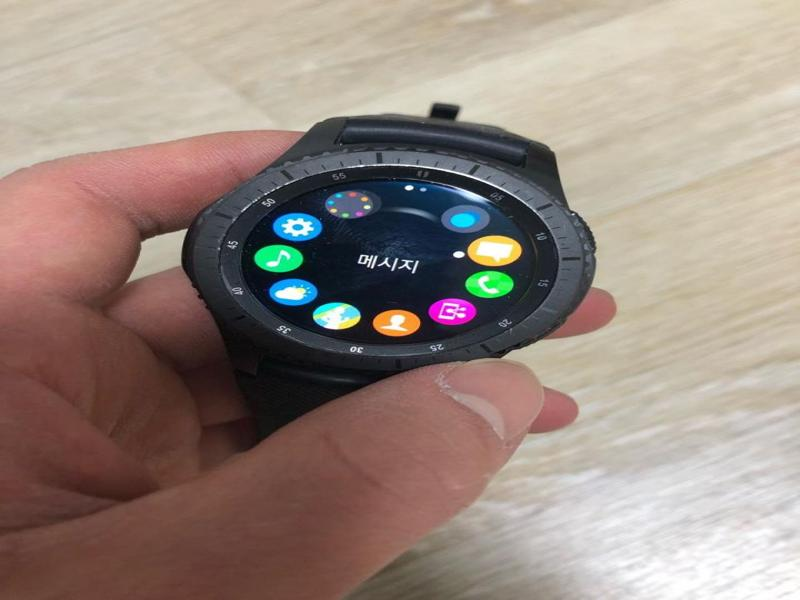watch: (176, 105, 605, 429)
